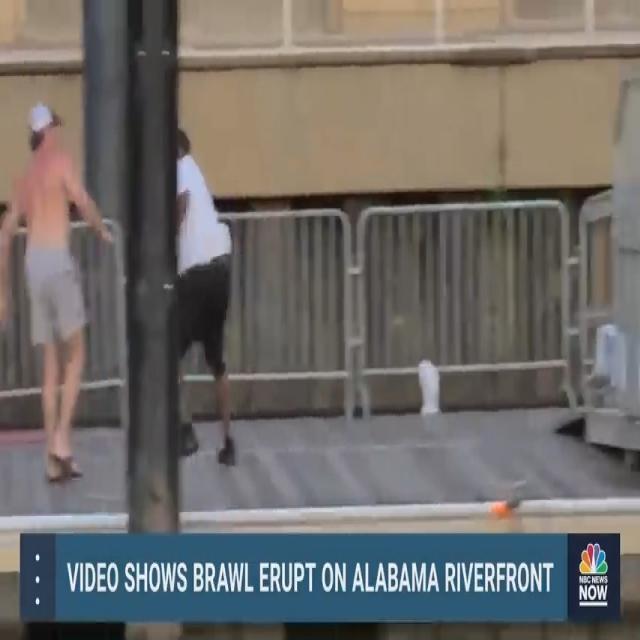fight: (2, 94, 244, 486)
